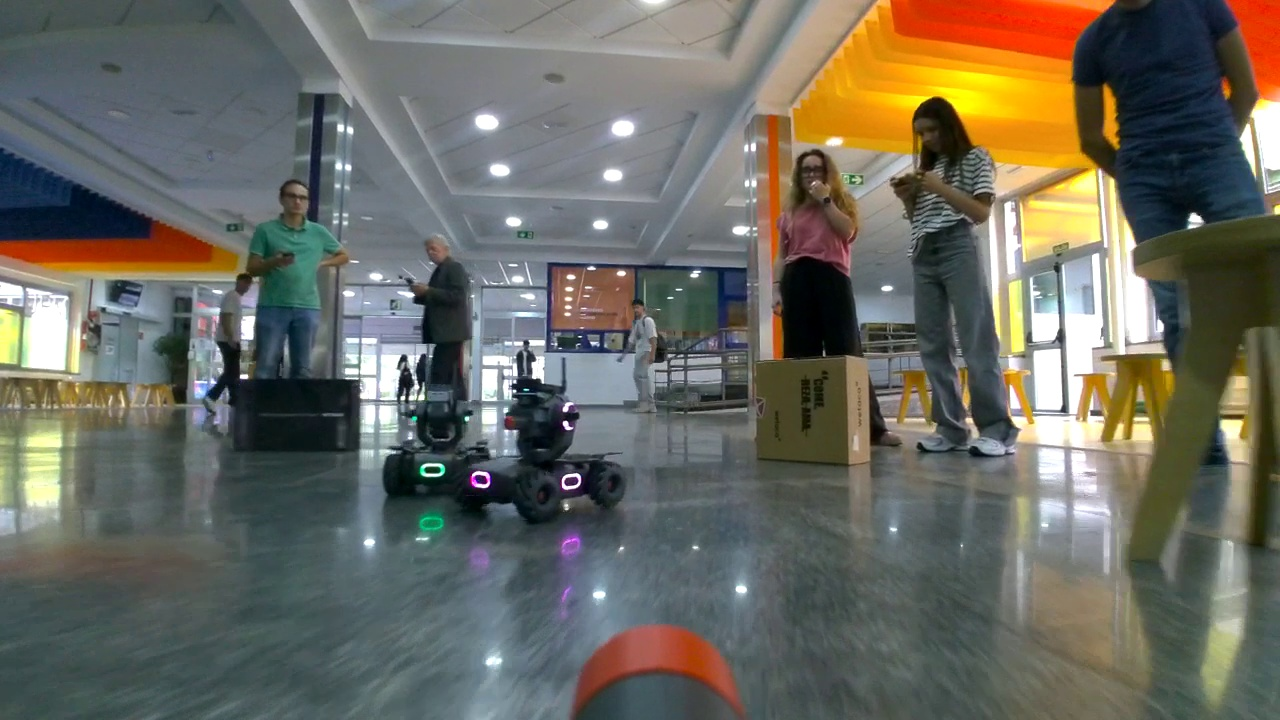robot: (456, 381, 626, 519), (380, 383, 488, 495)
